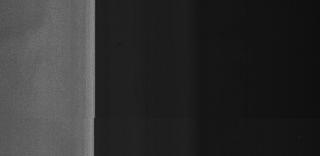welding line: (1, 114, 97, 122)
